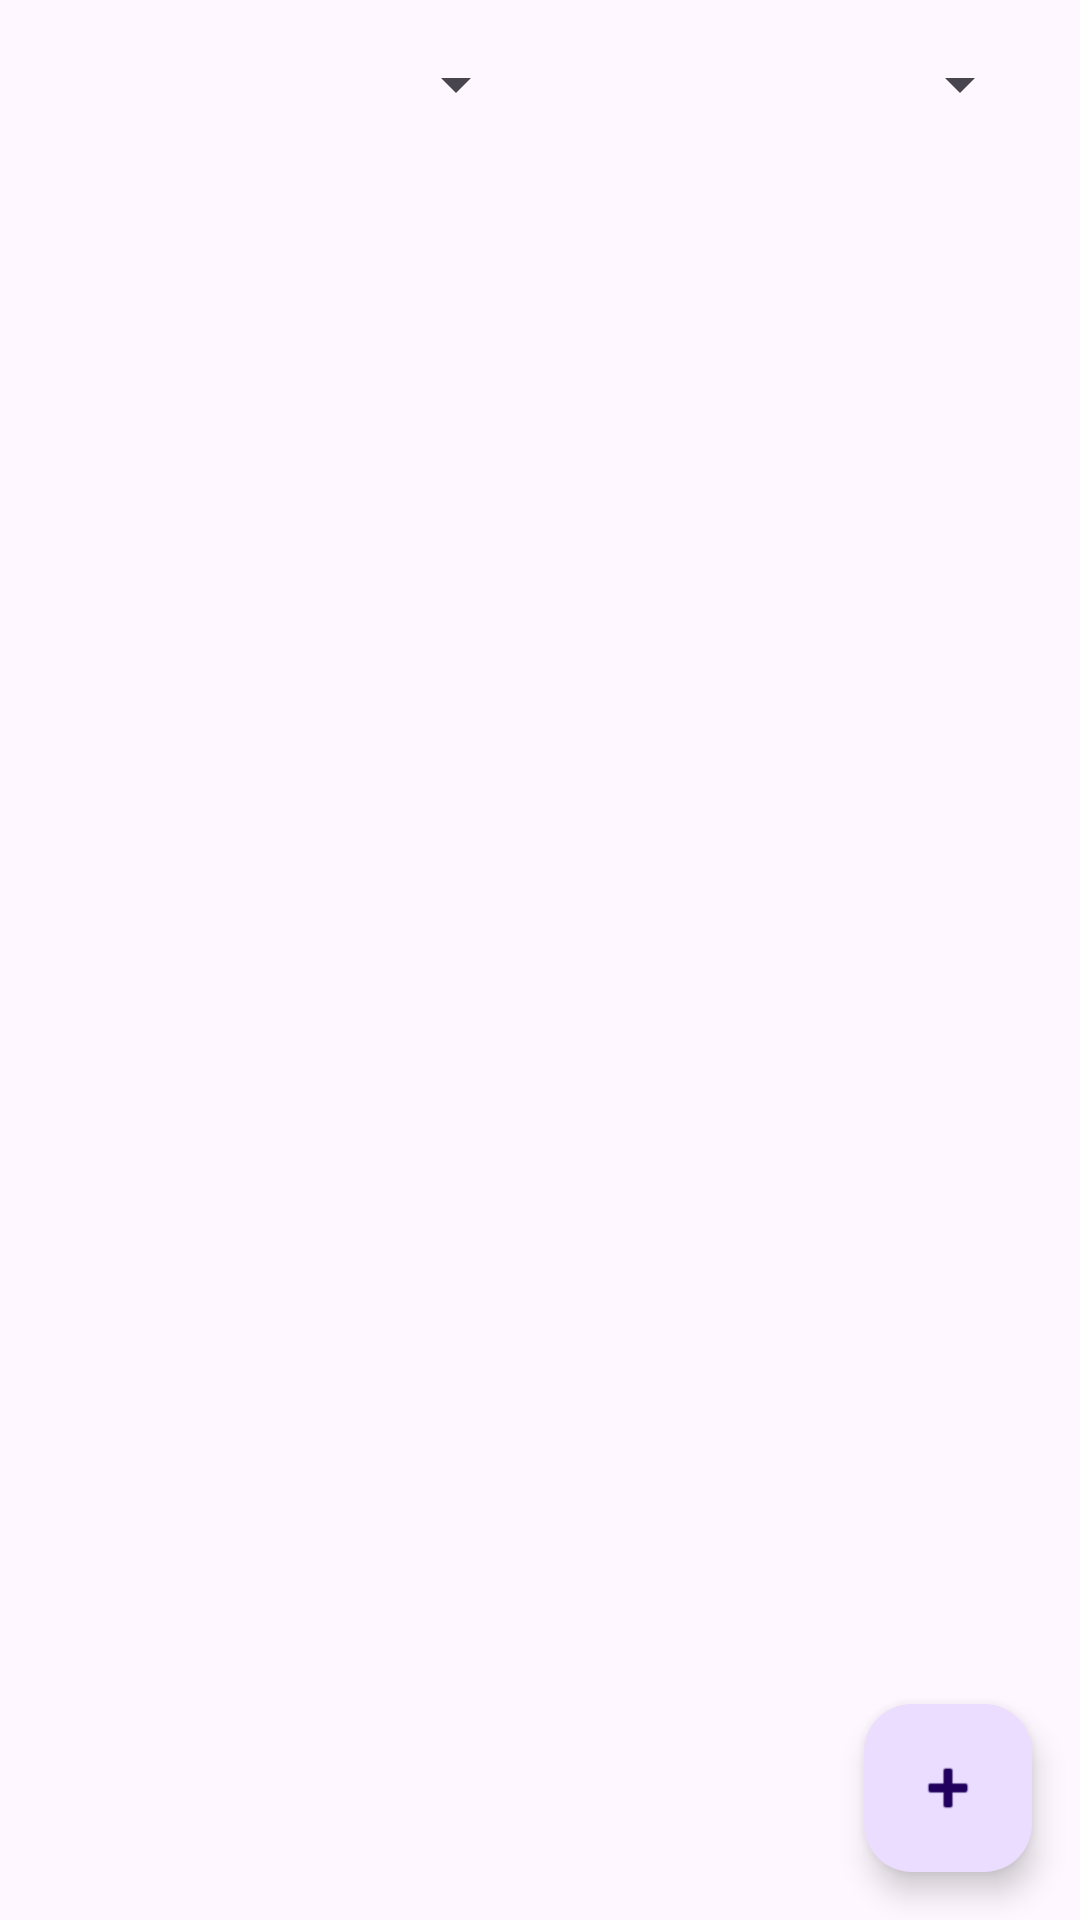

Locate icon controls on the screen. Image size 1080px x 1920px, boxes as bbox(x1, y1, x2, y2).
Agregar: bbox(864, 1704, 1032, 1872)
